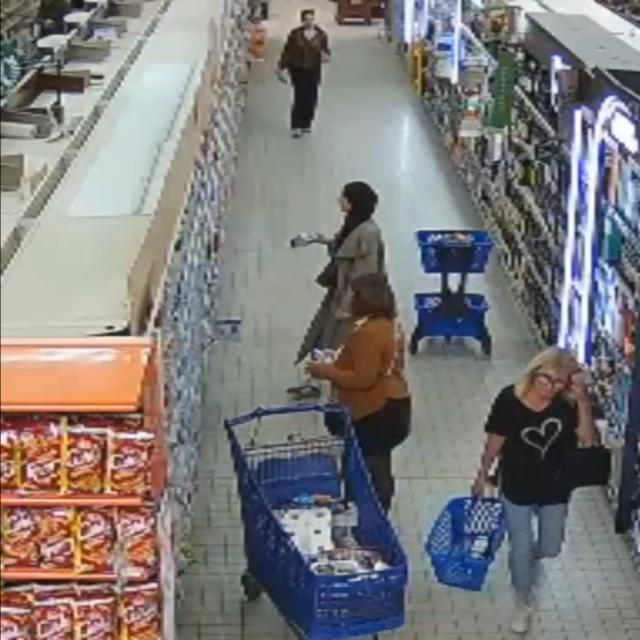article: (290, 231, 320, 247), (312, 349, 332, 362), (276, 72, 287, 83)
bags: (562, 446, 611, 490), (316, 260, 338, 289)
hands: (570, 373, 589, 403), (306, 362, 333, 379), (472, 472, 487, 497), (335, 309, 351, 319), (322, 52, 331, 63)
person: (473, 348, 596, 634), (307, 274, 411, 511), (296, 181, 385, 363), (277, 9, 330, 136)
